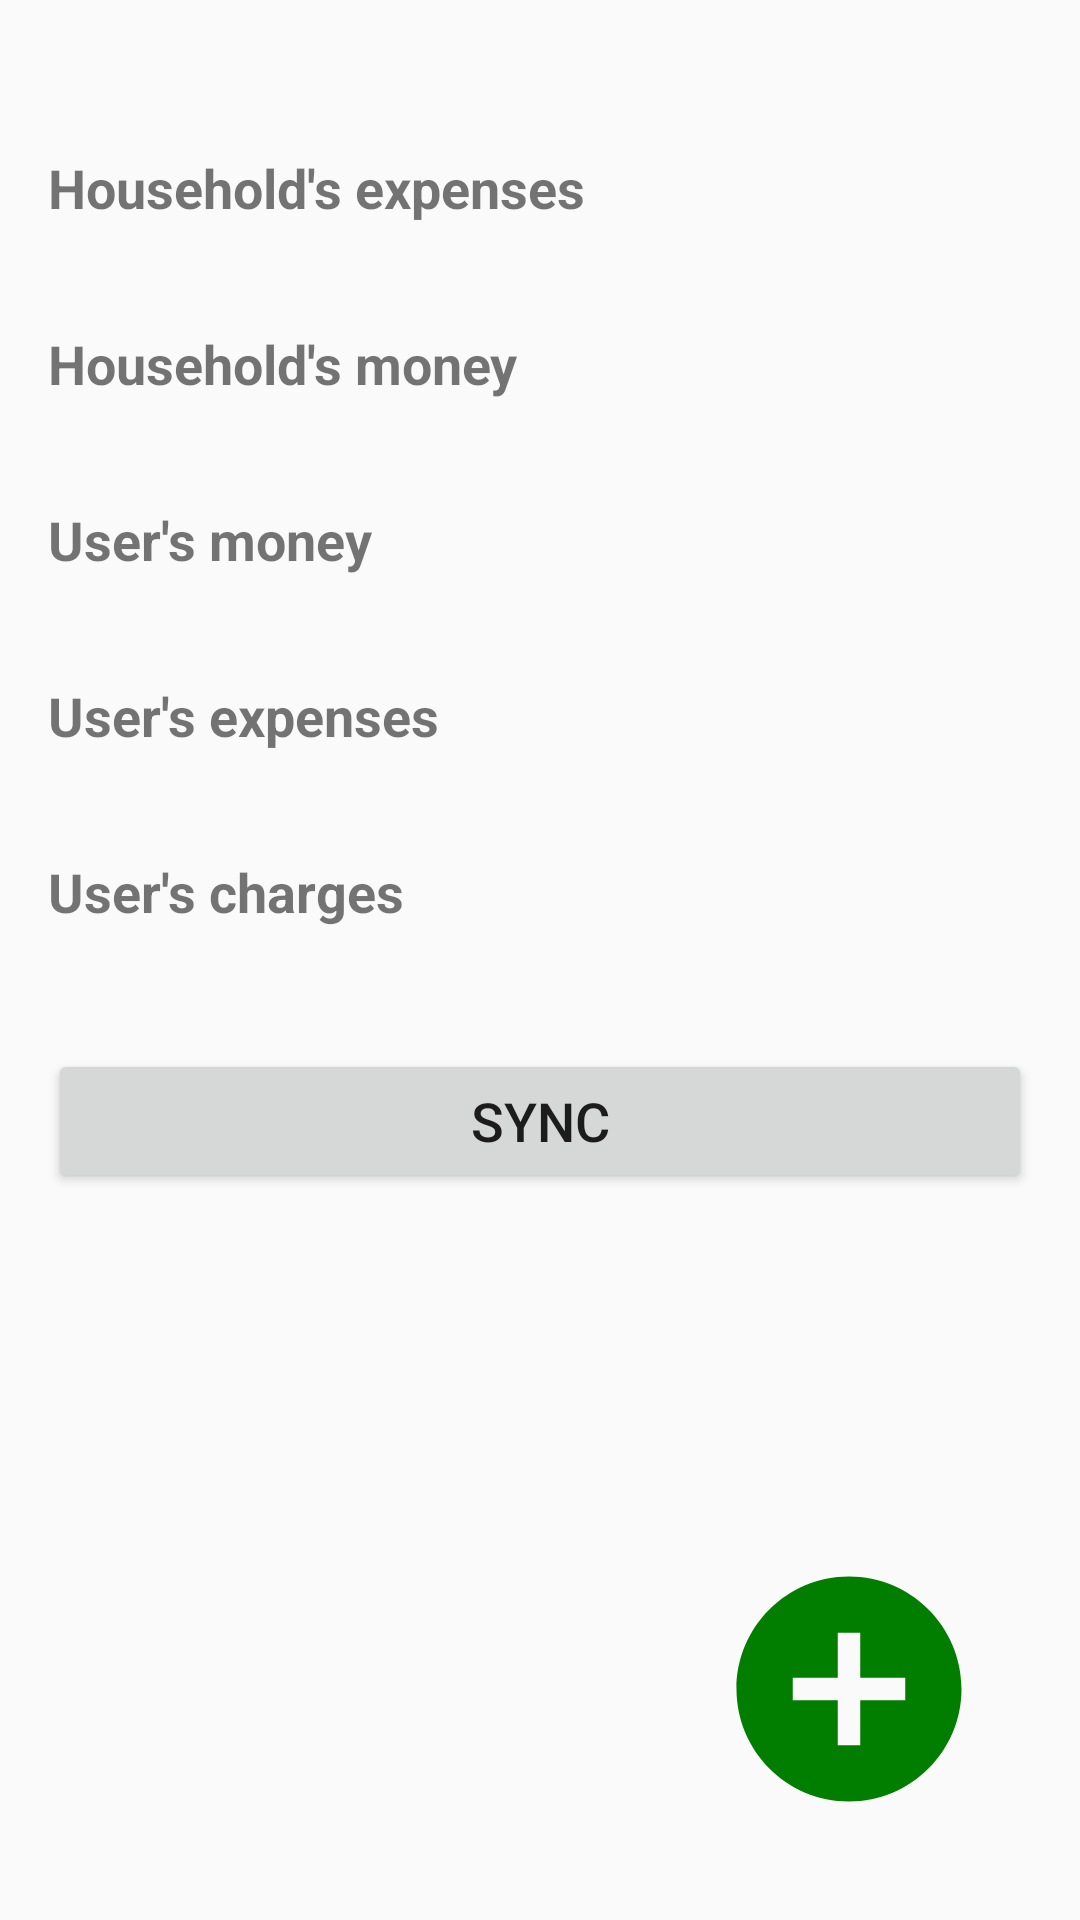

Icon click points for this 1080×1920 phone screenshot, format (x=x, y=y):
add circle: (x=849, y=1689)
